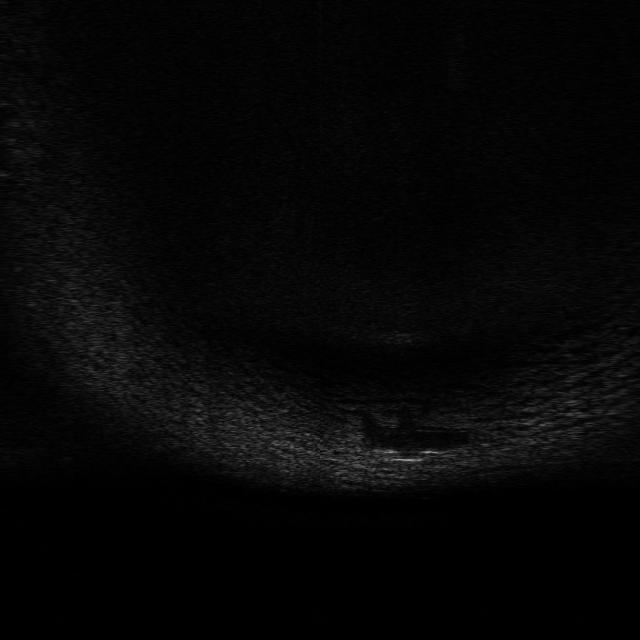plane: (366, 444, 453, 464)
